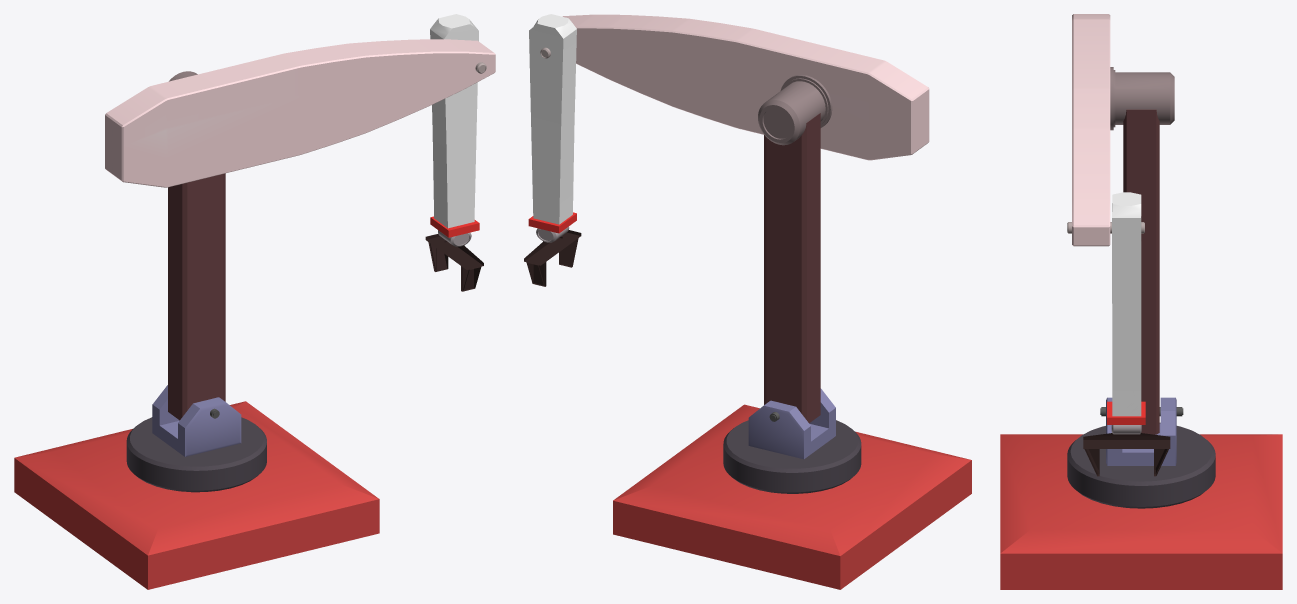
Rendered from Ramie_robota_pokolorowane_wiercholki.glb.
The picture shows the model from 3 angles, left to right: view 1: azimuth 30°, elevation 25°; view 2: azimuth 150°, elevation 25°; view 3: azimuth 270°, elevation 25°; orthographic projection. The views are drawn at different scales.
Visible parts, largest first — view 1: Arm2, Base, Arm1, Arm3, Base_rotator, Link1, wrist_link, grabber; view 2: Base, Arm2, Arm1, Arm3, Base_rotator, Link1, Link2, wrist_link, grabber; view 3: Base, Arm2, Arm1, Base_rotator, Arm3, Link2, Link1, wrist_link, wrist_rotator1, grabber.
Part boxes in pixels (x1,y1,x2,y2): Arm2: (105,39,495,187); Base: (14,401,379,589); Arm1: (168,173,225,420); Arm3: (430,14,478,228); Base_rotator: (126,417,266,492); Link1: (152,385,241,456); wrist_link: (425,234,483,269); grabber: (428,242,481,291); Base: (613,404,971,589); Arm2: (562,14,929,160); Arm1: (764,113,820,423); Arm3: (529,14,576,224); Base_rotator: (723,420,861,493); Link1: (748,388,835,459); Link2: (758,74,832,145); wrist_link: (524,230,581,265); grabber: (526,238,578,286); Base: (1000,434,1282,589); Arm2: (1072,14,1110,246); Arm1: (1123,109,1159,434); Base_rotator: (1067,422,1215,508); Arm3: (1112,192,1141,416); Link2: (1110,67,1174,130); Link1: (1106,397,1176,465); wrist_link: (1083,433,1170,448); wrist_rotator1: (1107,401,1145,424); grabber: (1084,449,1168,476).
Size of the model in its own units: 9.12 by 10.28 by 5.5.
